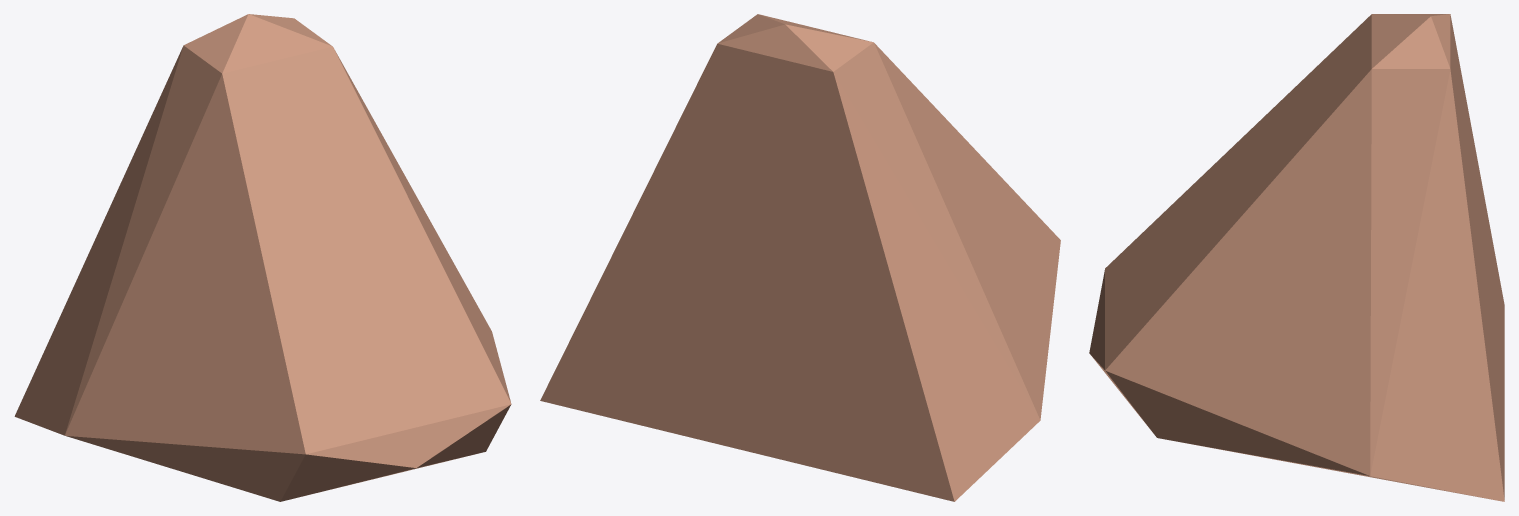
File: nose_dw_big.glb
The picture shows the model from 3 angles, left to right: view 1: azimuth 30°, elevation 25°; view 2: azimuth 150°, elevation 25°; view 3: azimuth 270°, elevation 25°; orthographic projection. The views are drawn at different scales.
Visible parts, largest first — view 1: Snout; view 2: Snout; view 3: Snout.
Part boxes in pixels (<box>): Snout: <box>14,14,511,501</box>; Snout: <box>540,14,1060,501</box>; Snout: <box>1089,14,1504,501</box>.
Size of the model in its own units: 0.054 by 0.046 by 0.0447.
Materials: 1 (1 with a texture image).
